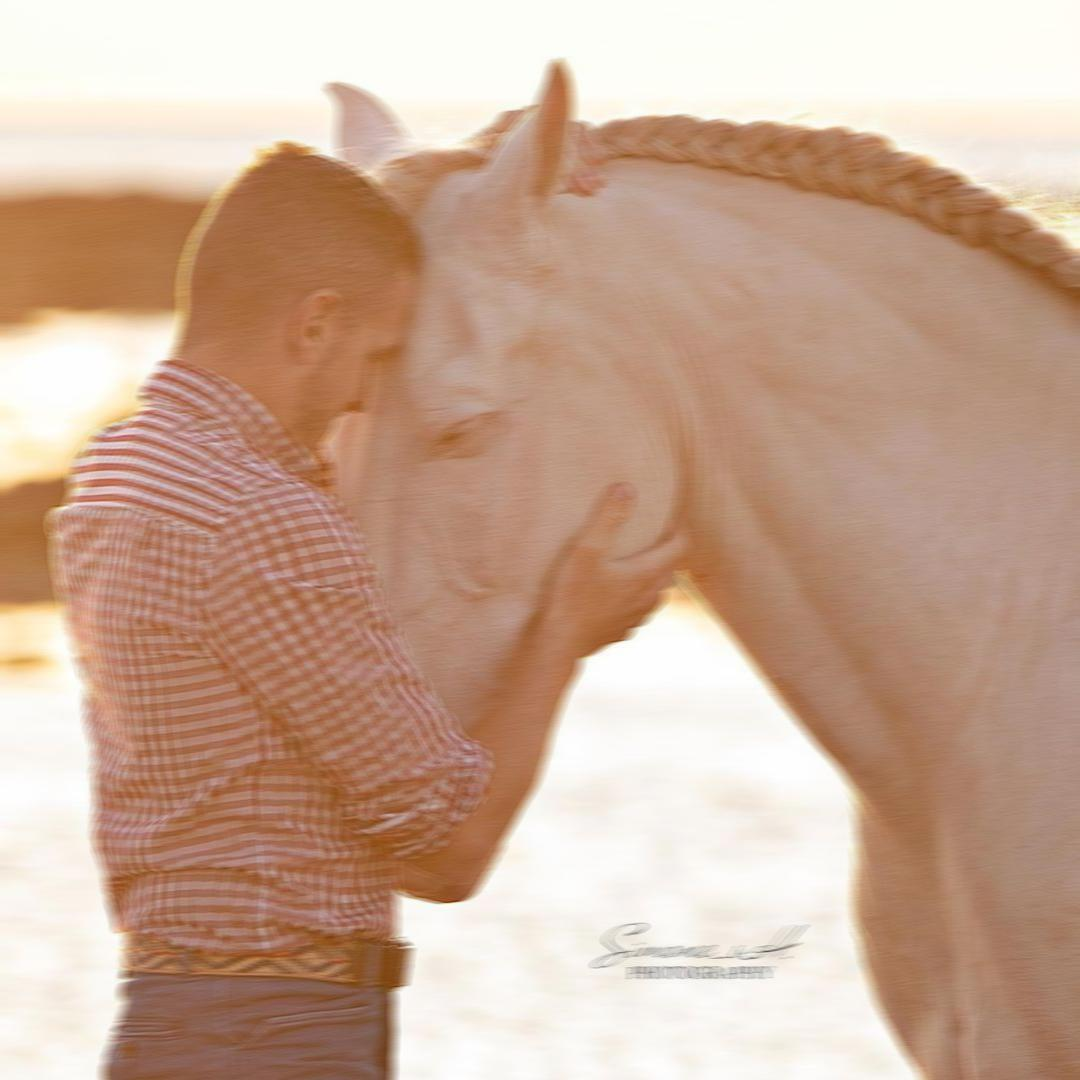horse: (316, 57, 1080, 1078)
